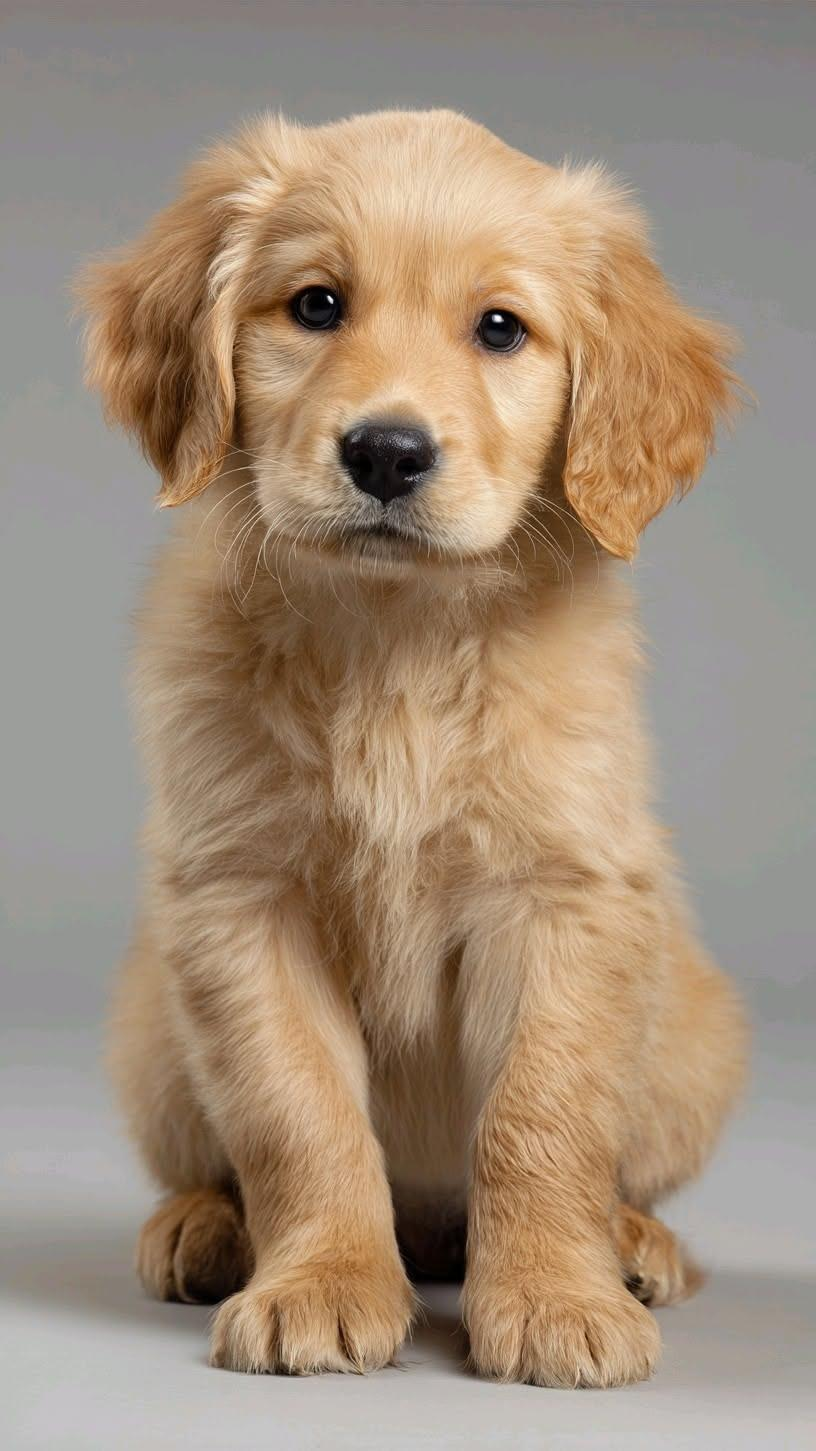puppy-dog: (69, 102, 759, 1392)
